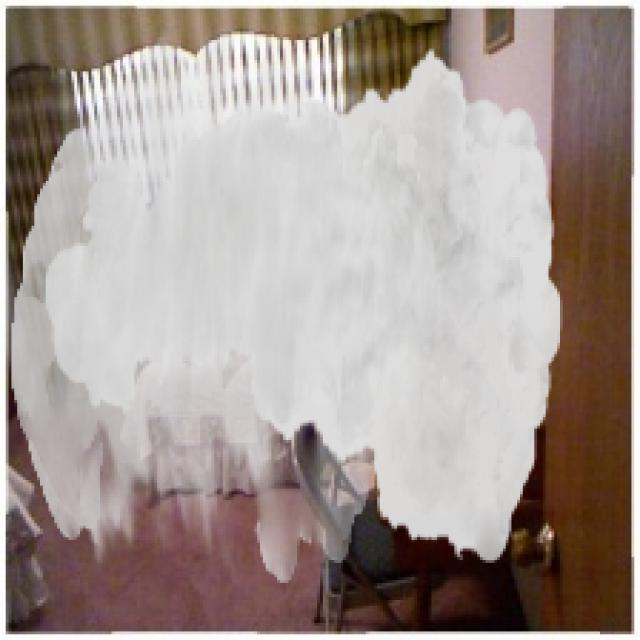smoke: (11, 26, 563, 583)
